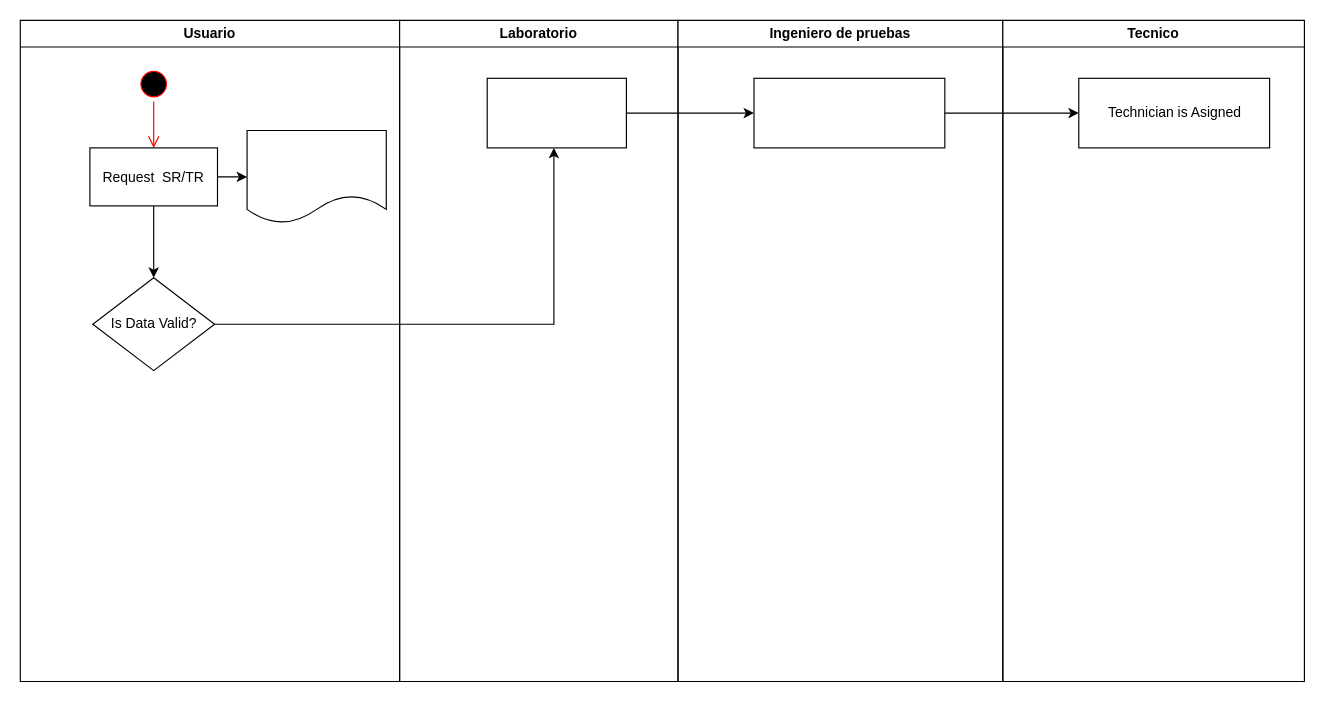
Image size: 1325x702. Some labels were removed from this diagram. The shapes that lost their labels are listed below. From the top down, each one's centre as x and y in pixels, then its label:
At (556,112): "Confirm Request".
At (849,112): "Engineer is assigned".
At (316,176): "Docs".
